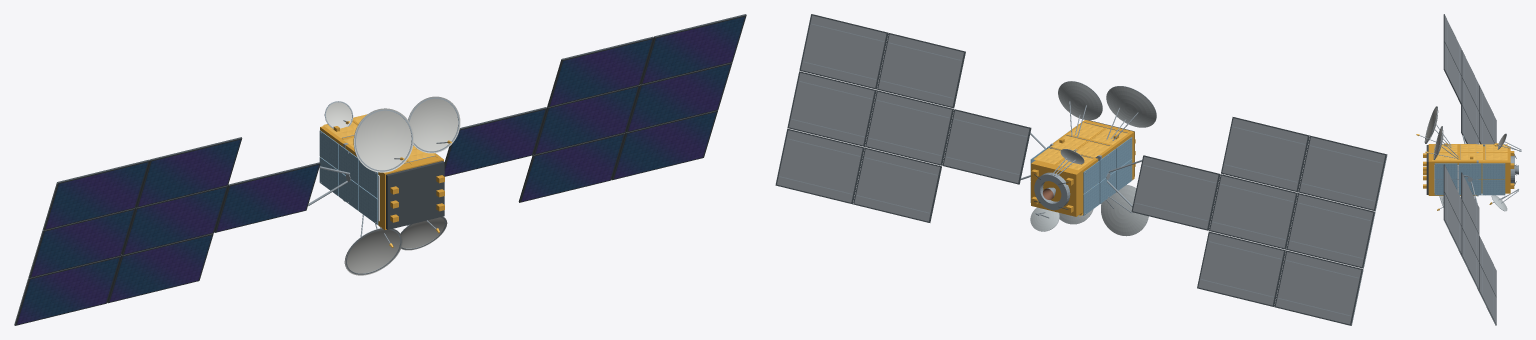
File: ciel-2.glb
3 views of the same model, side by side, from view 1: azimuth 30°, elevation 25°; view 2: azimuth 150°, elevation 25°; view 3: azimuth 270°, elevation 25° (orthographic). The views are drawn at different scales.
Parts seen in each view (by area): view 1: Solar cell panel (×14), Solar panel frame (×12), Earth-facing deck, Ciel-2 reflector 3 face, Ciel-2 reflector 4 face, Ciel-2 reflector 1 face, Radiator tile bay (×2), Ciel-2 reflector 2 face, Payload module, Ciel-2 reflector 6 face; view 2: Rear array substrate (×14), Solar panel frame (×14), Service module, Ciel-2 reflector 1 insulated back, Ciel-2 reflector 3 insulated back, Ciel-2 reflector 4 insulated back, Payload module, Launch adapter ring, Ciel-2 reflector 5 insulated back; view 3: Rear array substrate (×14), Radiator tile bay (×6), Solar panel frame (×11), Overlapping thermal blanket (×6), Payload module, Service module, Ciel-2 reflector 3 face, Ciel-2 reflector 4 face, Earth-facing deck, Ciel-2 reflector 5 insulated back, Launch adapter ring.
Part boxes in pixels (x1,y1,x2,y2): Solar cell panel (×14): (17,16,744,324); Solar panel frame (×12): (43,14,746,303); Earth-facing deck: (386,161,444,229); Ciel-2 reflector 3 face: (354,108,413,172); Ciel-2 reflector 4 face: (408,96,460,153); Ciel-2 reflector 1 face: (345,228,402,275); Radiator tile bay (×2): (319,130,378,224); Ciel-2 reflector 2 face: (401,216,447,250); Payload module: (345,144,443,229); Ciel-2 reflector 6 face: (326,101,353,128); Rear array substrate (×14): (777,15,1385,324); Solar panel frame (×14): (775,14,1386,325); Service module: (1031,147,1098,216); Ciel-2 reflector 1 insulated back: (1101,185,1148,236); Ciel-2 reflector 3 insulated back: (1106,86,1156,127); Ciel-2 reflector 4 insulated back: (1058,81,1102,120); Payload module: (1053,120,1134,179); Launch adapter ring: (1034,172,1070,210); Ciel-2 reflector 5 insulated back: (1030,207,1059,231); Rear array substrate (×14): (1444,15,1496,323); Radiator tile bay (×6): (1434,163,1505,195); Solar panel frame (×11): (1443,14,1496,325); Overlapping thermal blanket (×6): (1435,144,1507,160); Payload module: (1428,144,1476,195); Service module: (1478,146,1510,193); Ciel-2 reflector 3 face: (1424,106,1437,143); Ciel-2 reflector 4 face: (1433,126,1442,159); Earth-facing deck: (1426,145,1428,194); Ciel-2 reflector 5 insulated back: (1492,195,1507,211); Launch adapter ring: (1510,156,1514,183).
Size of the model in its own units: 35 by 8.47 by 7.58.
11 materials, 2 textured.
